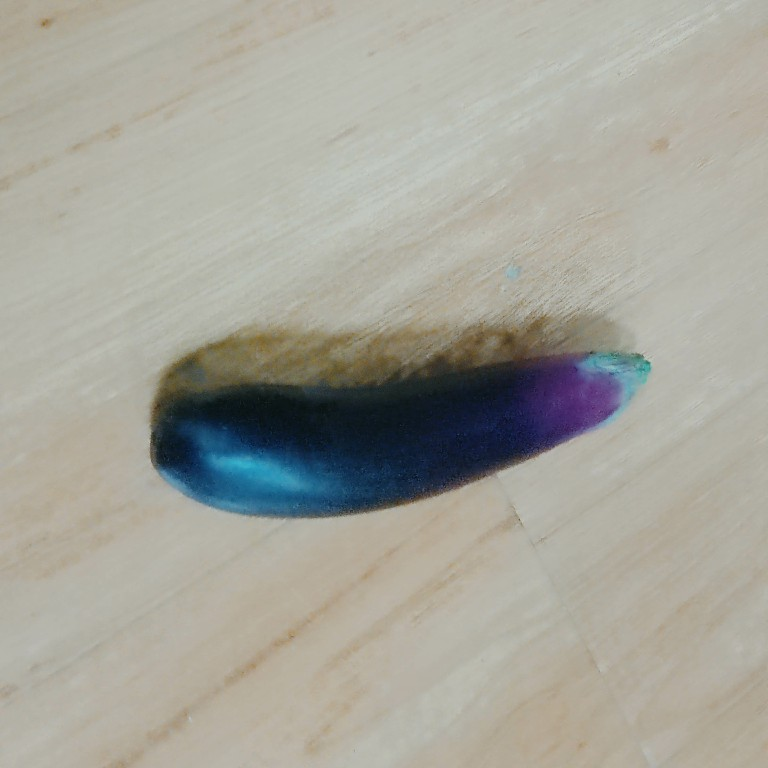fruit_eggplant: (146, 348, 656, 522)
